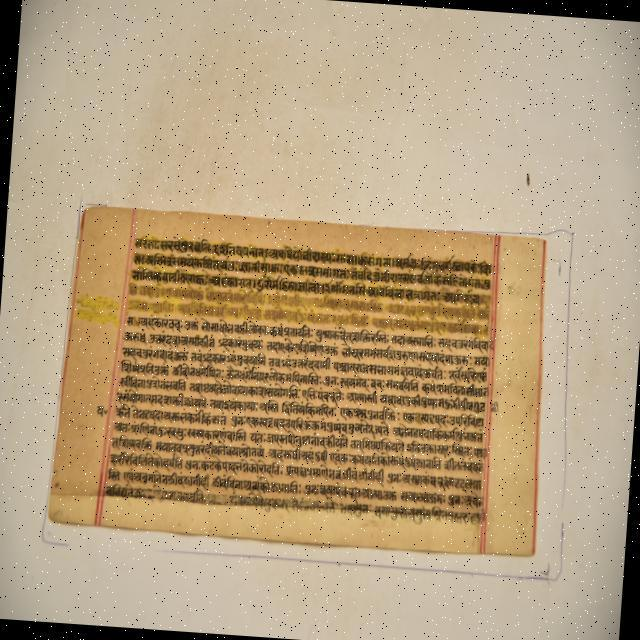text_paragraph: (45, 202, 545, 552)
